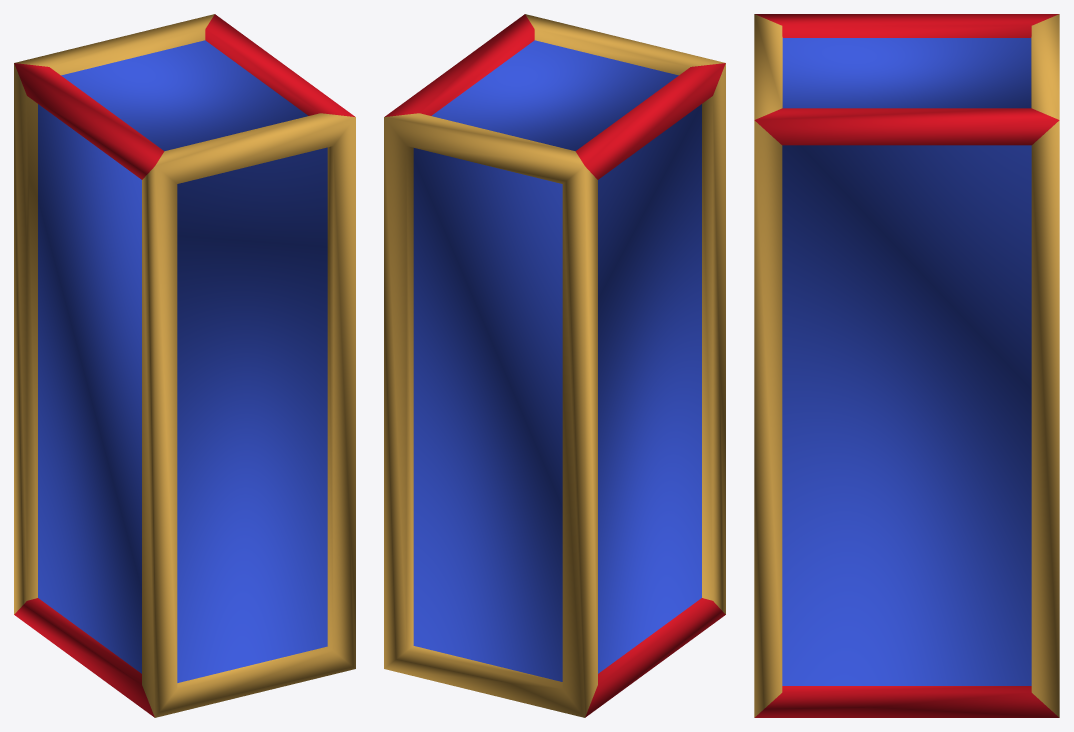
File: CharacterBox.fbx
3 renders of one model, left to right at view 1: azimuth 30°, elevation 25°; view 2: azimuth 150°, elevation 25°; view 3: azimuth 270°, elevation 25°, orthographic. The views are drawn at different scales.
Visible parts, largest first — view 1: Cube; view 2: Cube; view 3: Cube.
Part boxes in pixels (x1,y1,x2,y2): Cube: (14, 14, 355, 717); Cube: (384, 14, 725, 717); Cube: (754, 14, 1059, 717).
Bounding box in the file's own units: 200 × 525 × 243.
